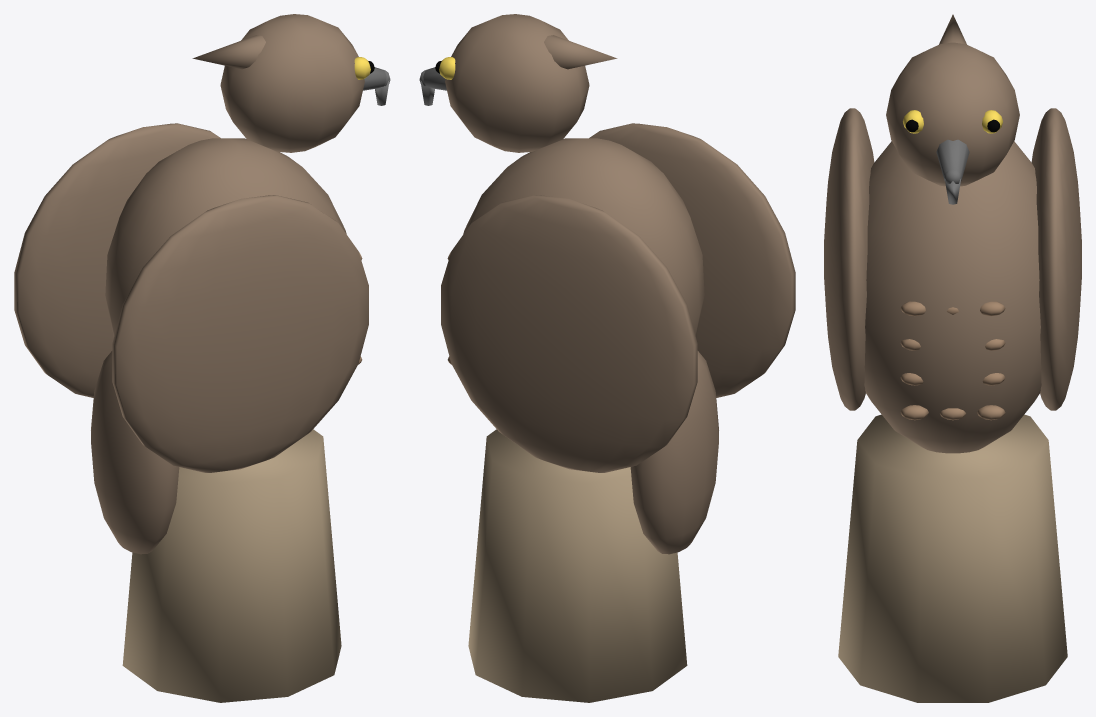
The model's file is mountain-hawk-eagle.glb.
The picture shows the model from 3 angles, left to right: view 1: azimuth 30°, elevation 25°; view 2: azimuth 150°, elevation 25°; view 3: azimuth 270°, elevation 25°; orthographic projection. The views are drawn at different scales.
Visible parts, largest first — view 1: e.008, e.022, e.023, cone; view 2: e.008, e.023, e.022, cone; view 3: e.008, cone, e.022, e.023.
Part boxes in pixels (bbox=[...]): e.008: bbox=[91, 138, 362, 702]; e.022: bbox=[112, 195, 368, 472]; e.023: bbox=[14, 123, 220, 397]; cone: bbox=[192, 14, 390, 152]; e.008: bbox=[447, 138, 718, 702]; e.023: bbox=[441, 195, 697, 472]; e.022: bbox=[589, 123, 795, 397]; cone: bbox=[419, 14, 617, 152]; e.008: bbox=[838, 141, 1067, 702]; cone: bbox=[886, 14, 1019, 204]; e.022: bbox=[824, 108, 874, 410]; e.023: bbox=[1031, 108, 1081, 410].
Size of the model in its own units: 0.8019 by 1.47 by 0.5388.
